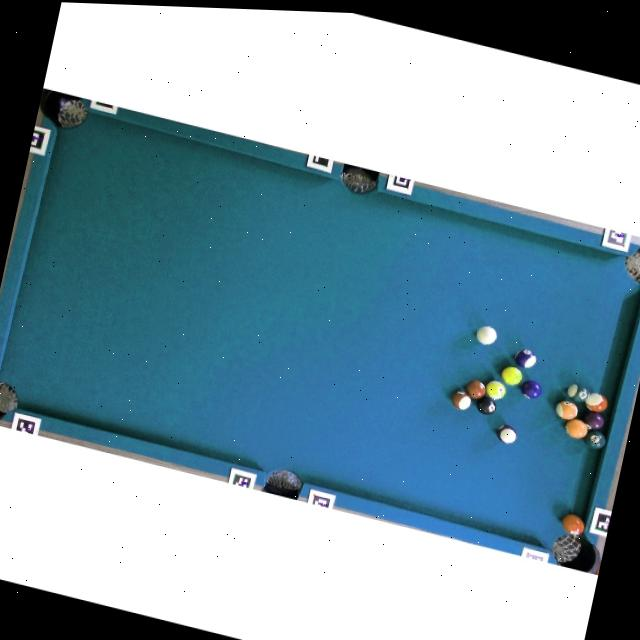cue ball: (474, 323, 498, 347)
other: (558, 510, 586, 537), (563, 416, 590, 441), (582, 390, 608, 415), (554, 398, 580, 423), (580, 408, 606, 432), (519, 377, 544, 401), (512, 346, 536, 370), (499, 363, 523, 387), (494, 421, 518, 445), (464, 377, 487, 401), (566, 381, 590, 404), (484, 378, 507, 401), (584, 428, 607, 451), (450, 389, 472, 412), (475, 394, 497, 416)
